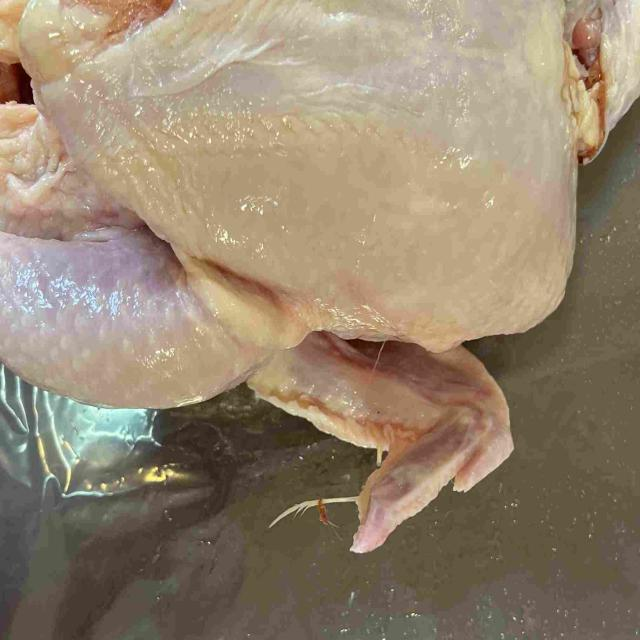breast: (15, 0, 572, 326)
leg: (0, 231, 277, 410)
neck: (565, 0, 640, 152)
wing: (259, 326, 512, 560)
